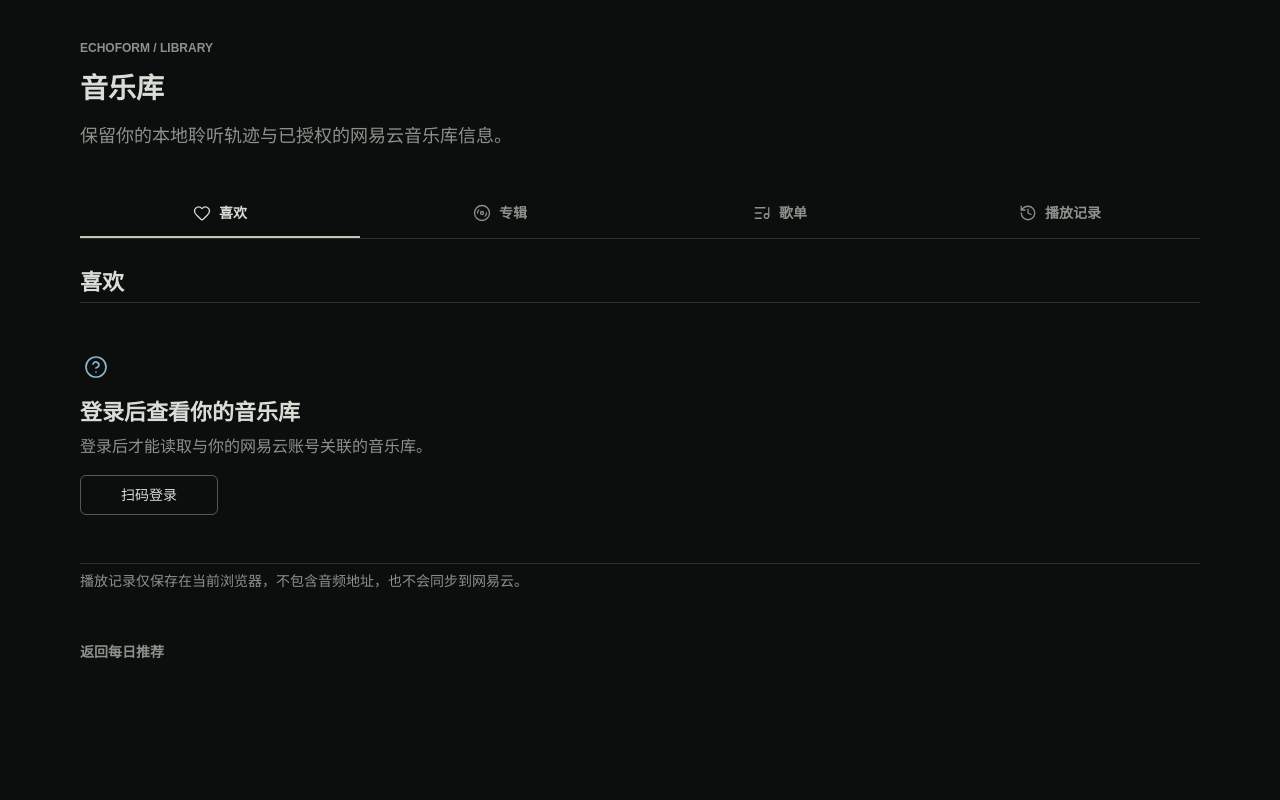
Test case: LibraryExperience › clears the rendered local history only after the adapter confirms success
This screenshot has width=1280, height=800.
Step 1. Click the tab "播放记录" → (1060, 214), box [920,190,1200,238]
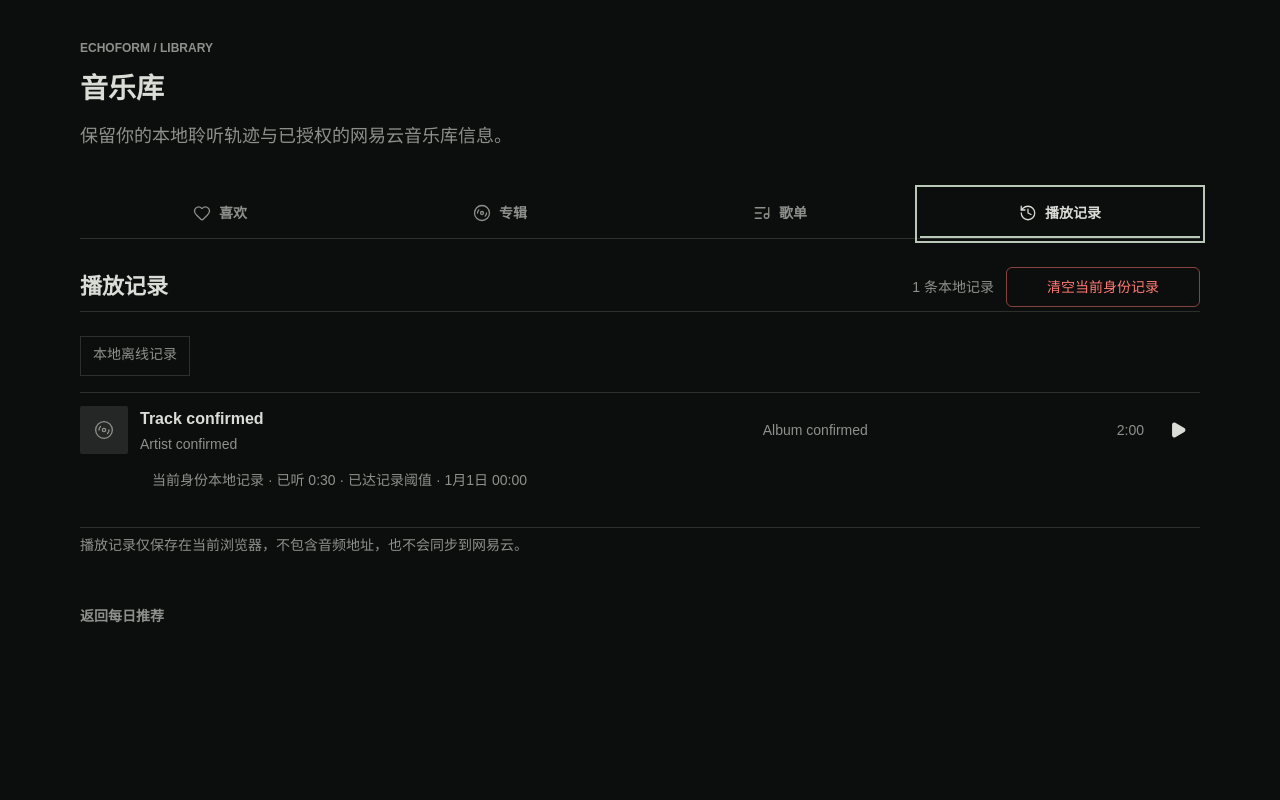
Step 2. Click the button "清空当前身份记录" → (1103, 287), box [1006,267,1200,307]
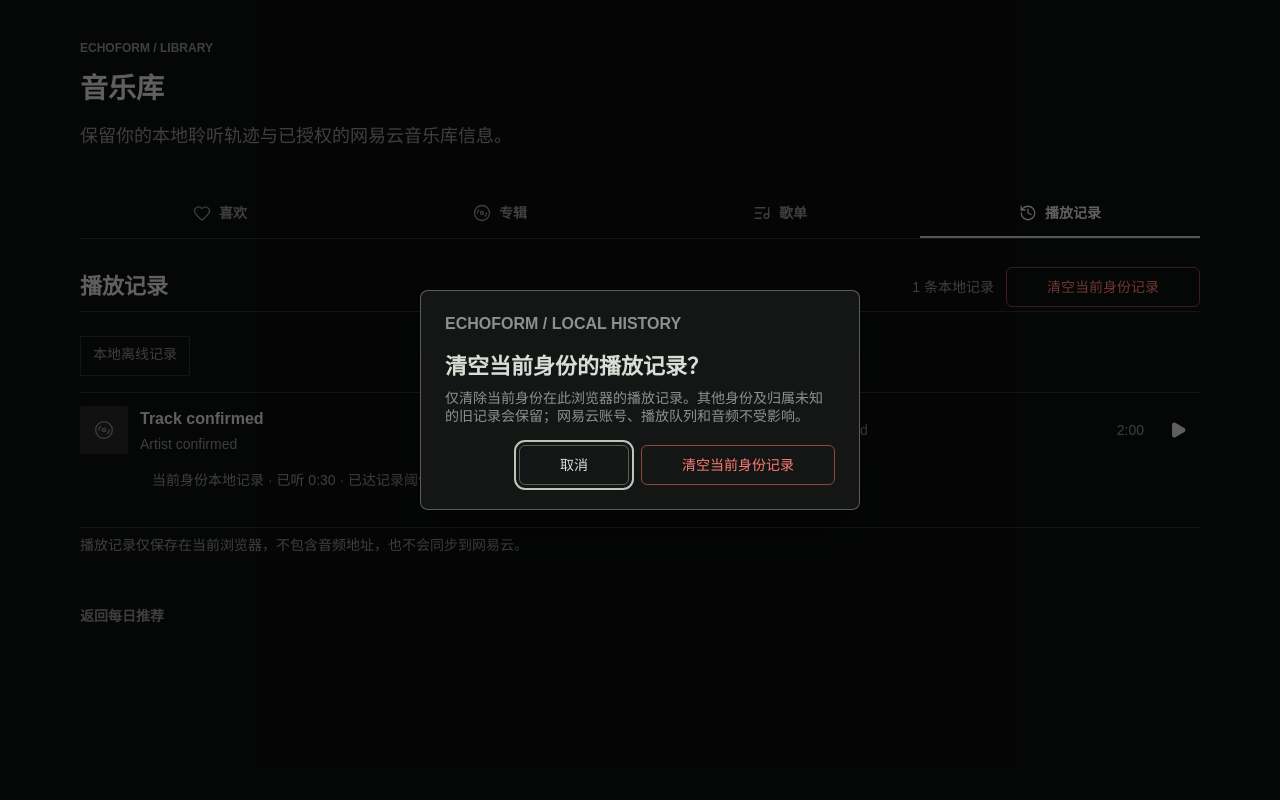
Step 3. Click the button "清空当前身份记录" → (738, 465), box [641,445,835,485]
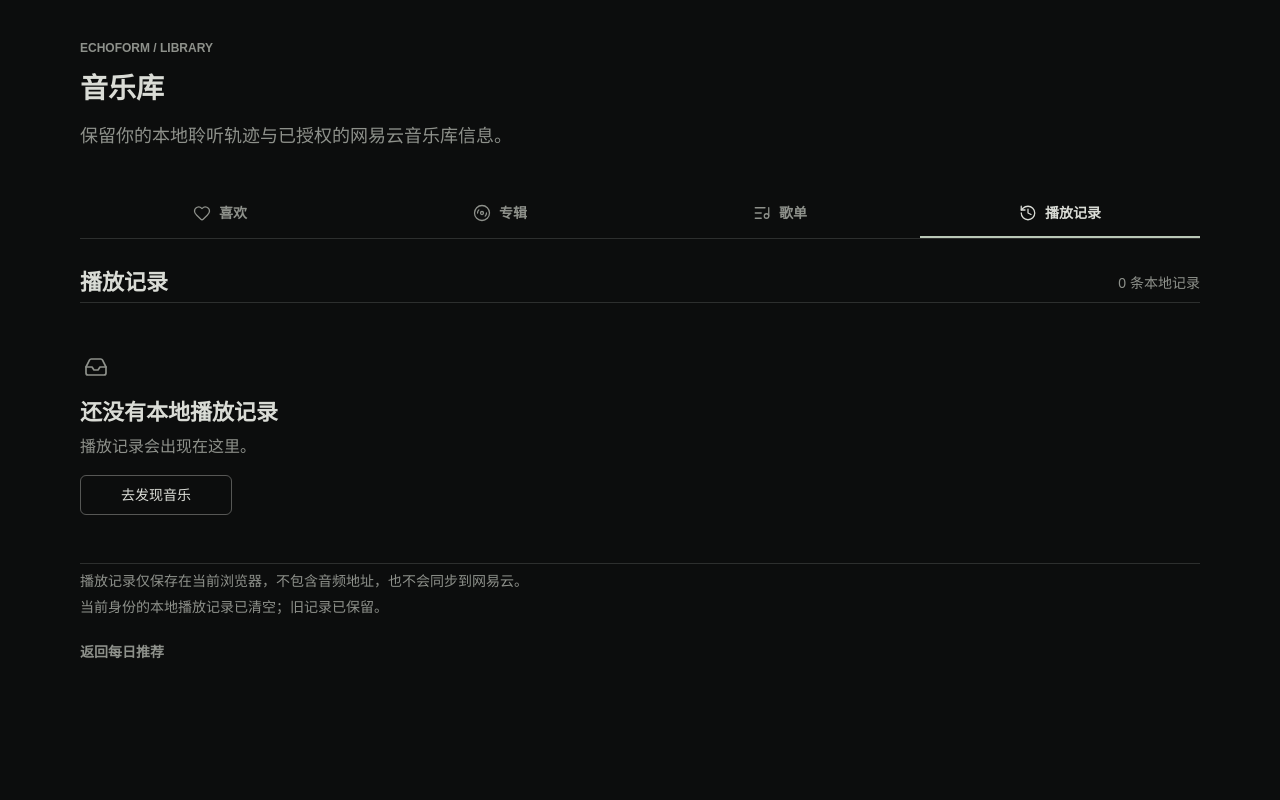
expect the link "Track confirmed" is gone: met
expect the heading "还没有本地播放记录" is shown: met, box [80,399,278,427]
expect the text "当前身份的本地播放记录已清空；旧记录已保留。" is shown: met, box [80,599,388,615]
